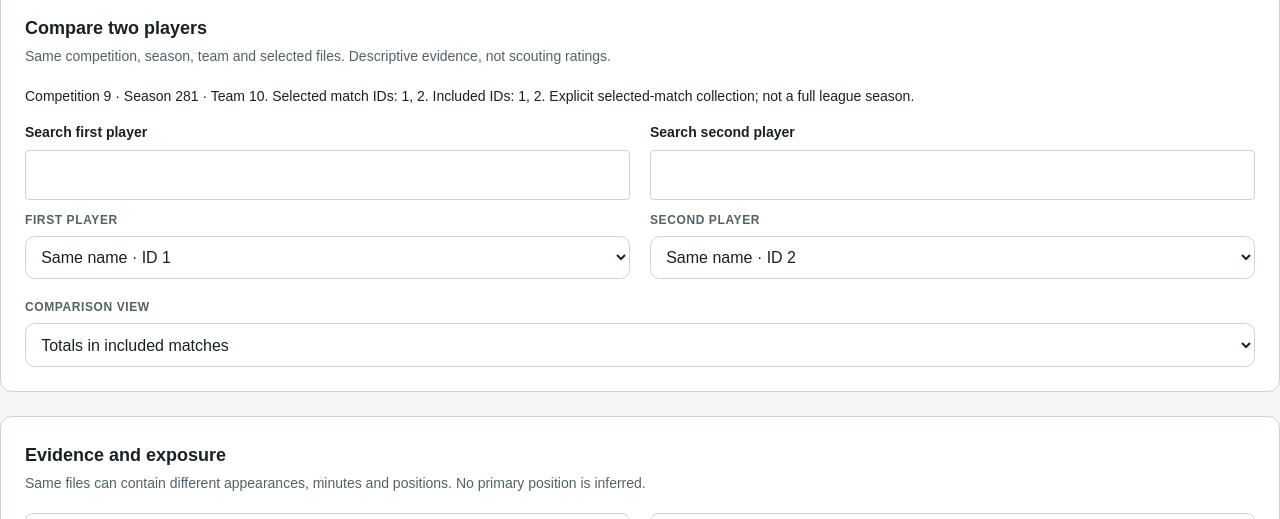
Test: displays null/zero-minute exposure without a zero-valued per90 placeholder
Select "Per 90 elapsed pitch minutes" in the dropdown labelled "Comparison view" at (640, 345), box top-left (25, 323), bottom-right (1255, 367)
(page scrolled)
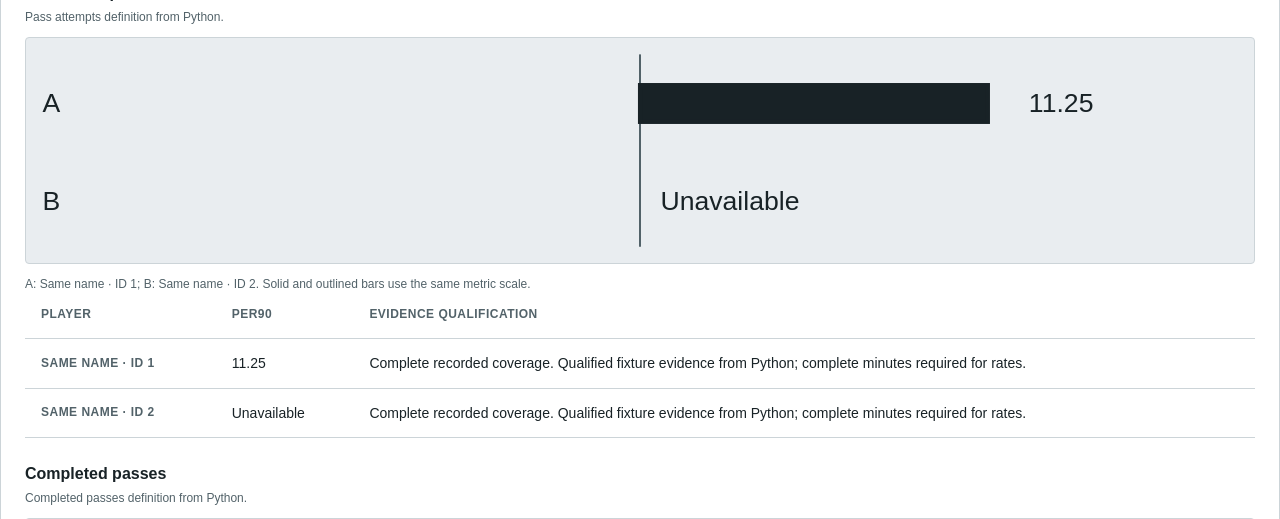
Expected: the element named "Pass attempts numeric values" shows "Unavailable", top-left (232, 405), bottom-right (305, 421)
